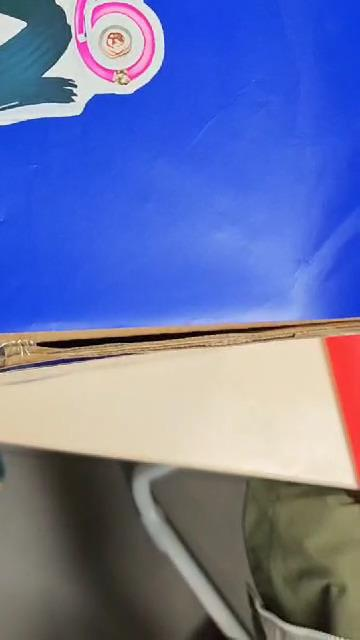B_R1: (0, 0, 305, 153)
